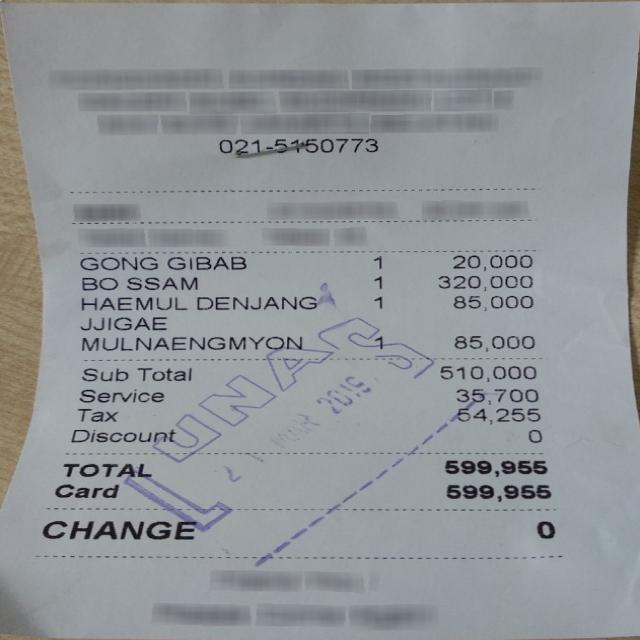text: (217, 136, 376, 157), (80, 335, 299, 350), (38, 519, 194, 539), (443, 483, 550, 500), (69, 427, 175, 443), (195, 296, 313, 310), (438, 364, 534, 380), (443, 460, 545, 475), (437, 274, 531, 290), (454, 406, 540, 423), (80, 296, 183, 310), (454, 388, 538, 403), (452, 294, 530, 310), (79, 316, 165, 330), (453, 335, 532, 350), (62, 462, 149, 475), (452, 254, 530, 268), (78, 388, 161, 401), (166, 256, 244, 268), (54, 483, 115, 498), (125, 276, 198, 288), (78, 257, 156, 268), (136, 366, 192, 381), (80, 367, 126, 380), (78, 276, 115, 290), (76, 408, 115, 420), (533, 520, 555, 538), (526, 428, 542, 442), (372, 335, 383, 350), (372, 295, 383, 308), (372, 254, 382, 268), (372, 276, 383, 288)
